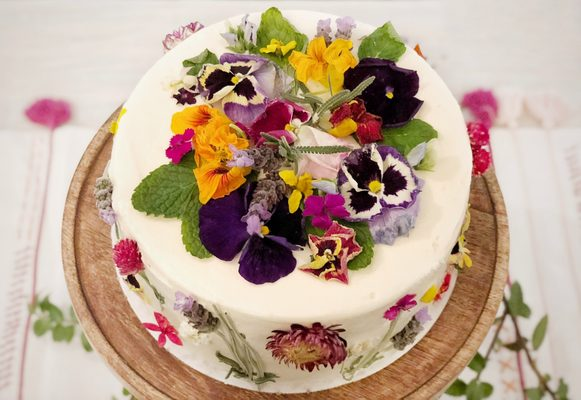curry: (3, 0, 570, 390)
sushi: (90, 8, 476, 388)
